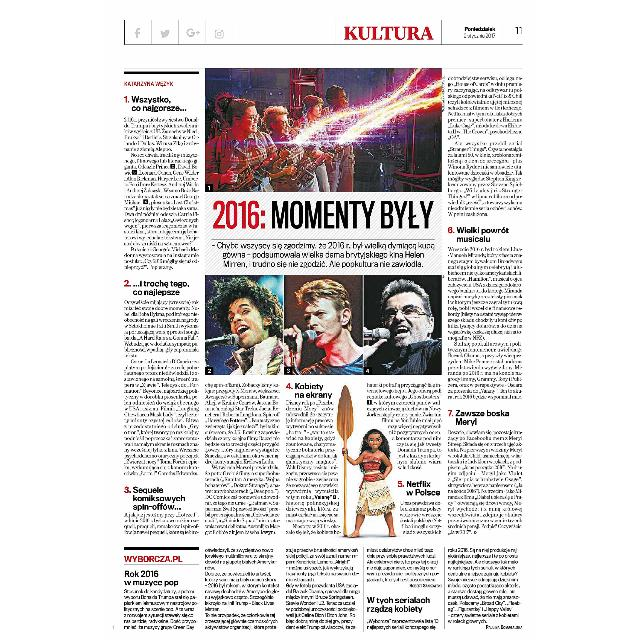article: (121, 68, 528, 538), (122, 546, 526, 636)
